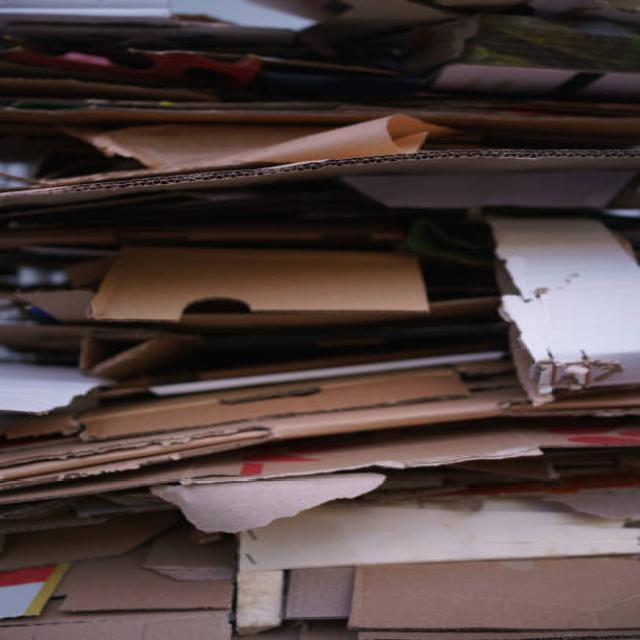electronic: (236, 487, 638, 571), (483, 214, 639, 406), (86, 244, 430, 324), (345, 552, 639, 631), (83, 113, 450, 170), (149, 470, 386, 534), (341, 168, 638, 210), (212, 0, 638, 27), (0, 358, 115, 415), (0, 0, 173, 19)
